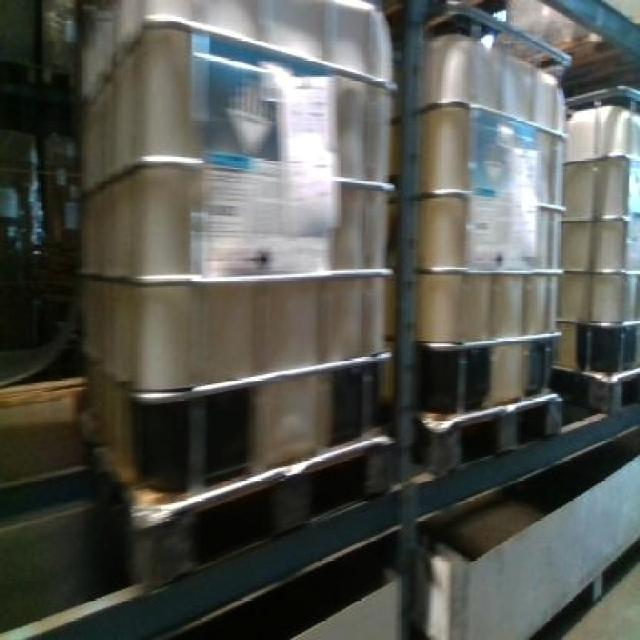pallets: (0, 0, 409, 637), (78, 0, 391, 582), (408, 6, 637, 517), (415, 6, 563, 469), (551, 85, 637, 409)
